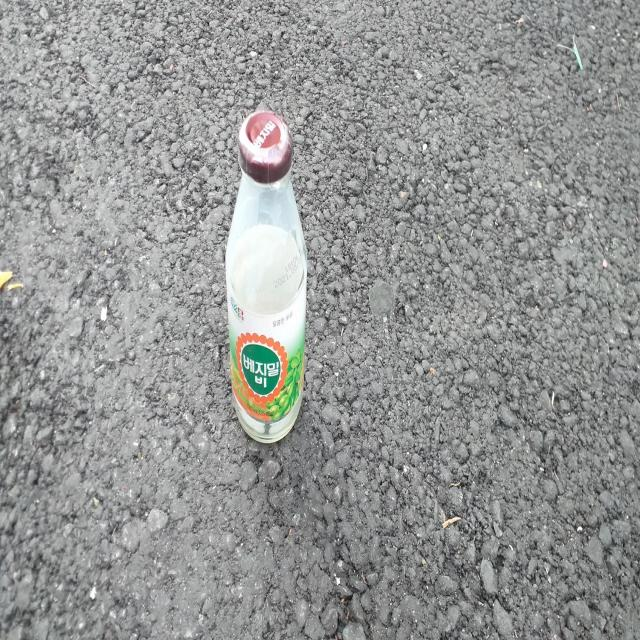glass: (225, 110, 307, 442)
